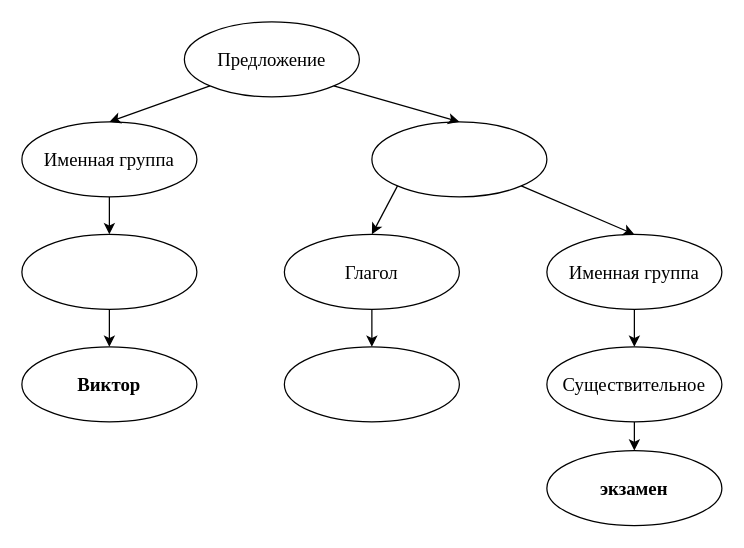
Image size: 744x548. Some labels were removed from this diagram. The box of each missing label's shape, as (x1, y1, x2, y2) in pixels:
Глагольная группа: (371, 121, 547, 197)
Имя собственное: (21, 233, 197, 309)
сдал: (283, 346, 459, 422)
